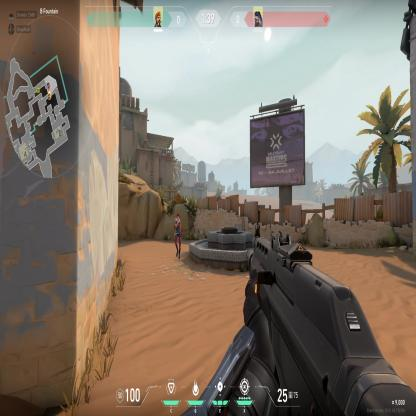enemy: (173, 212, 182, 260)
